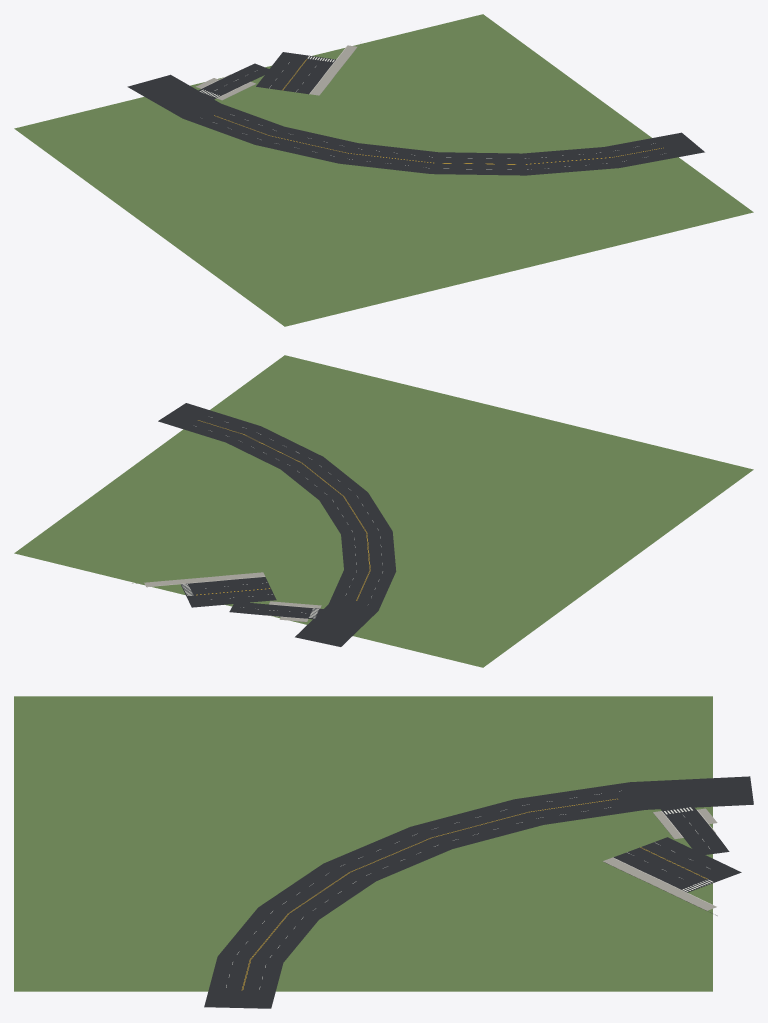
Rendered from Ground_0_0.fbx.
3 renders of one model, top to bottom at view 1: azimuth 30°, elevation 25°; view 2: azimuth 150°, elevation 25°; view 3: azimuth 270°, elevation 25°, orthographic. The views are drawn at different scales.
Parts seen in each view (by area): view 1: Ground_0_0; view 2: Ground_0_0; view 3: Ground_0_0.
Part boxes in pixels (x1,y1,x2,y2): Ground_0_0: [14, 14, 753, 326]; Ground_0_0: [14, 355, 753, 667]; Ground_0_0: [14, 696, 753, 1008].
Size of the model in its own units: 265 by 0.1 by 265.
